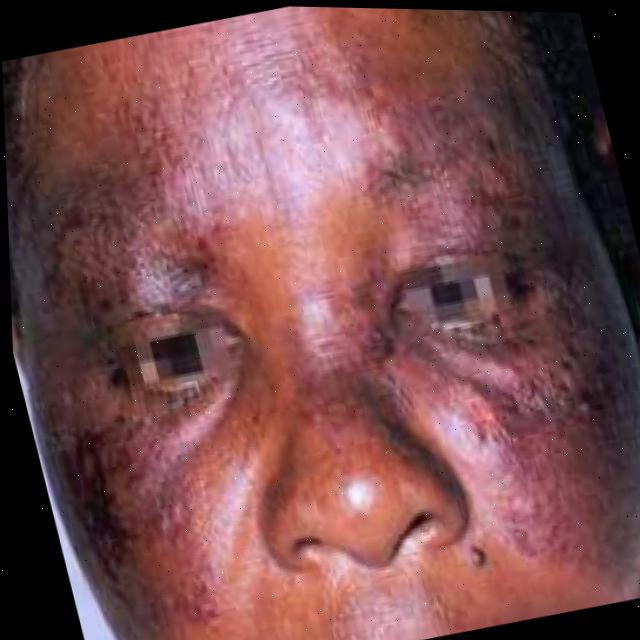Rosacea: (49, 390, 245, 623), (444, 316, 640, 546), (28, 137, 221, 304), (376, 92, 561, 261)
